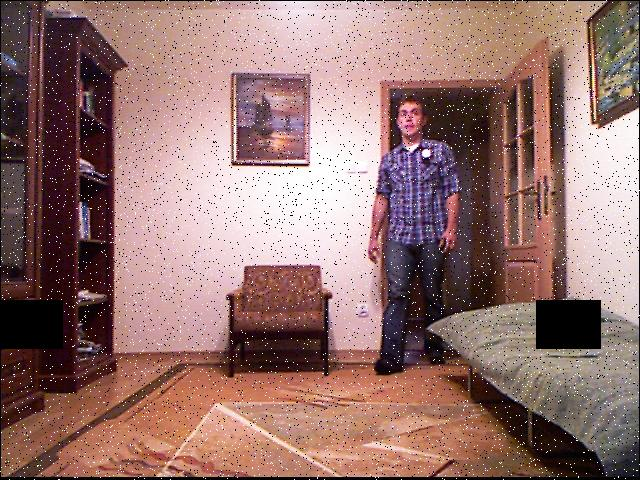walking: (366, 94, 476, 382)
